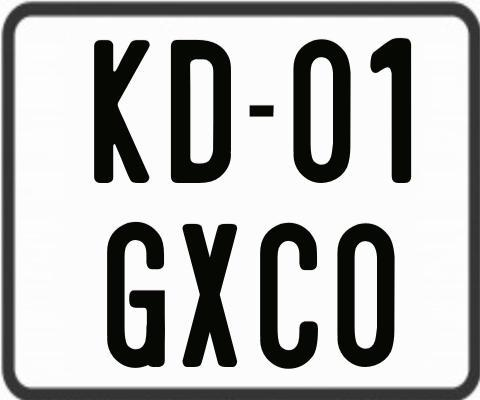0: (334, 220, 395, 369), (292, 39, 351, 186)
1: (370, 35, 416, 181)
C: (258, 221, 321, 369)
D: (168, 39, 230, 184)
G: (104, 219, 165, 371)
K: (91, 40, 147, 183)
X: (182, 223, 241, 368)
